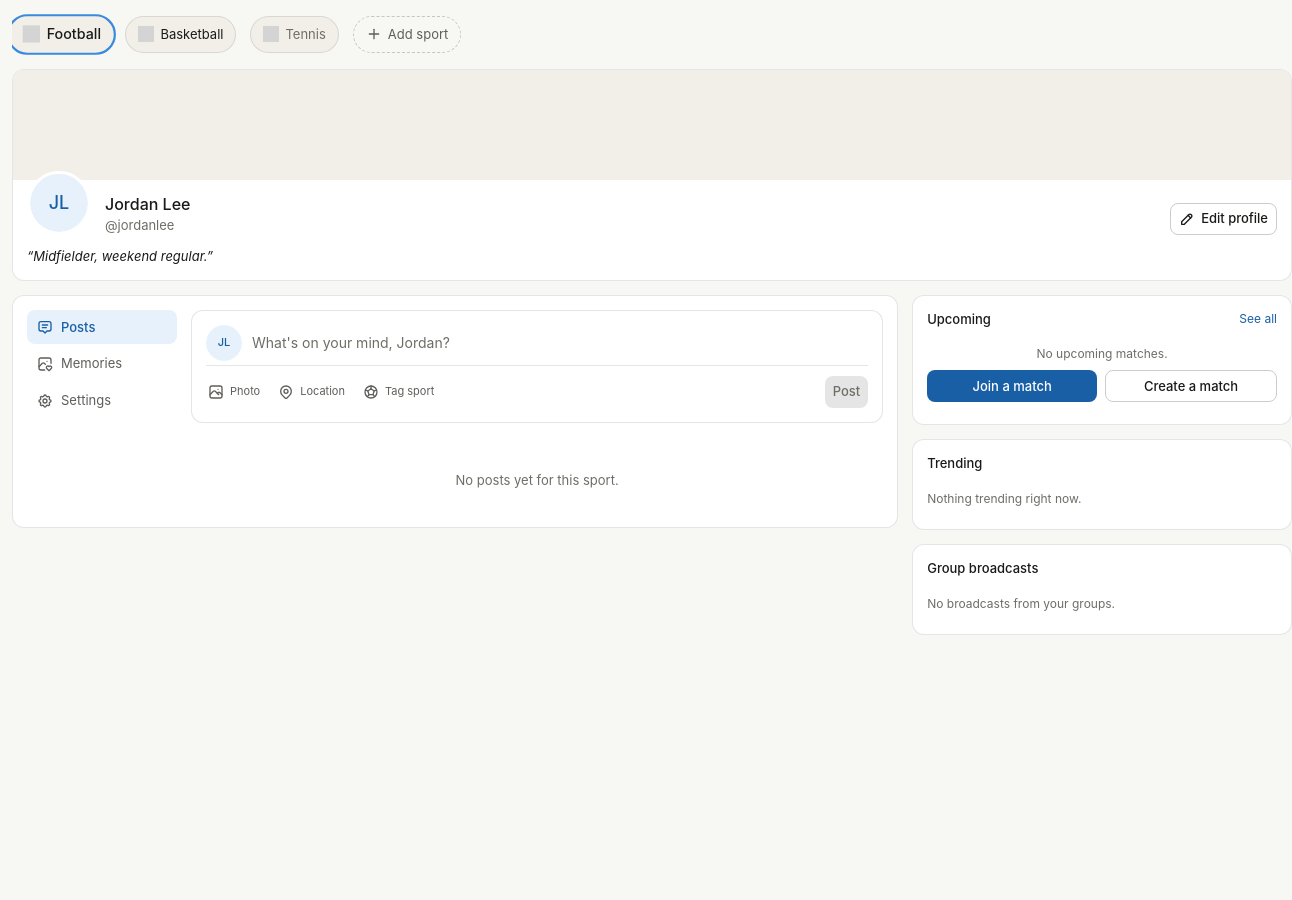
ProfilePage › SPORT-10: a deactivated SportSwitcher pill opens the Settings tab for that sport, read-only
The image size is (1292, 900).
Step 1. Click the button "Tennis" → coordinates (295, 34), box [250,16,339,53]
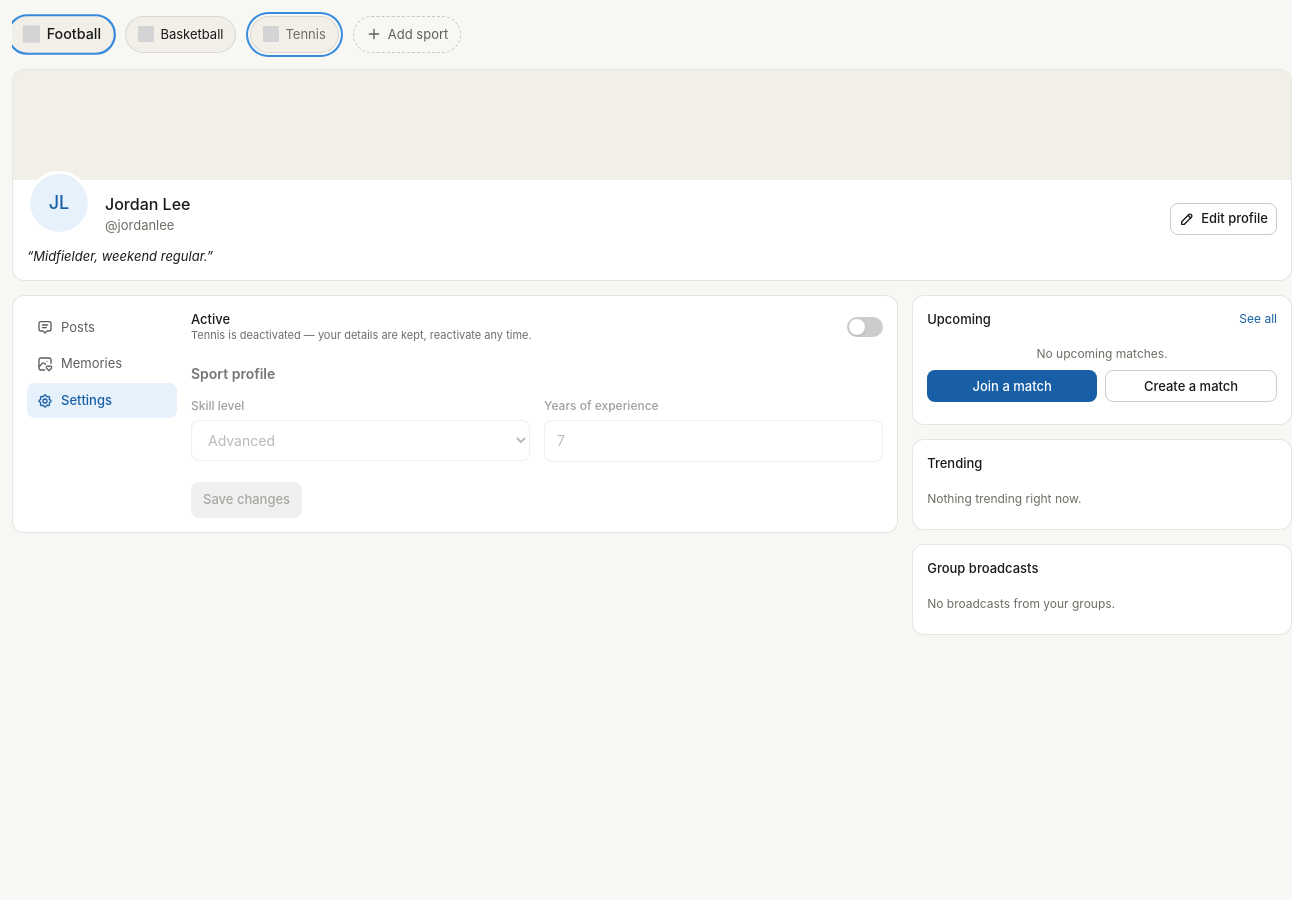
Expected: the switch named "Tennis profile: Inactive" is shown, [847,317,883,337]
Expected: the dropdown labelled "Skill level" shows "Advanced", [191,420,530,461]
Expected: the dropdown labelled "Skill level" is disabled, [191,420,530,461]
